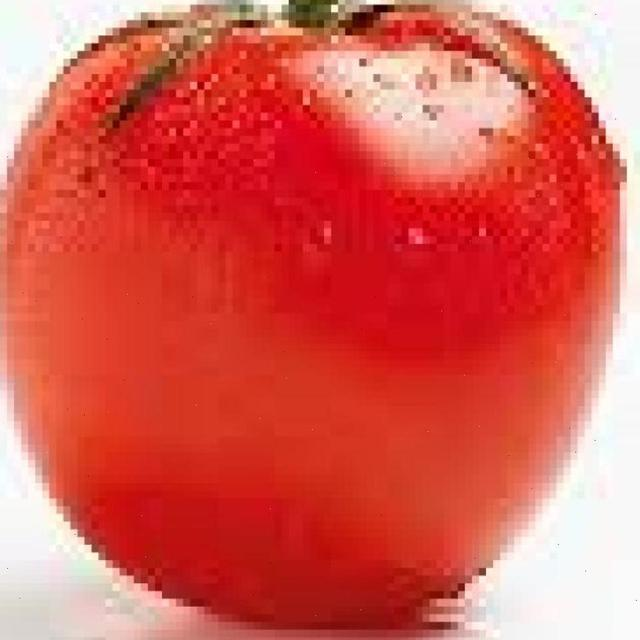Healthy Fruit: (0, 4, 417, 418)
